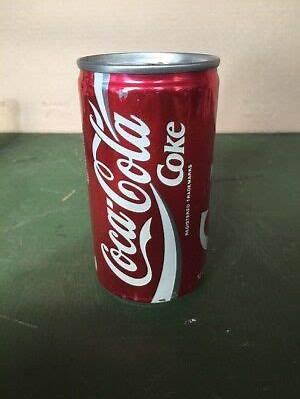metal: (78, 52, 220, 304)
